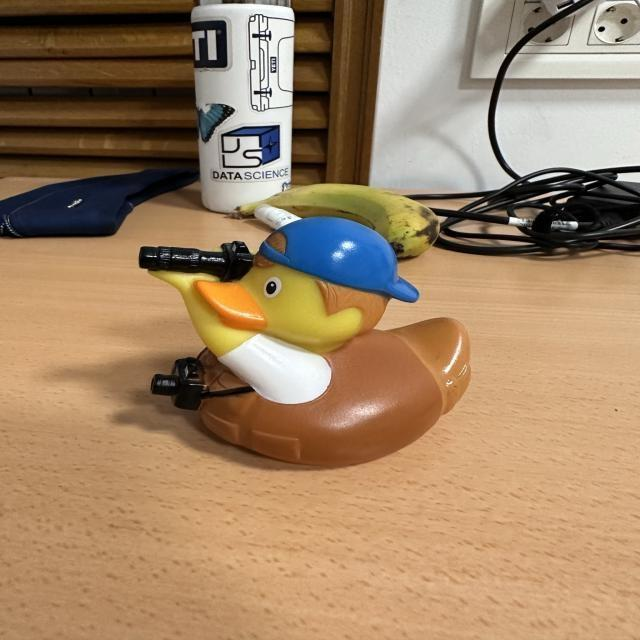rubber-duck: (138, 205, 468, 464)
